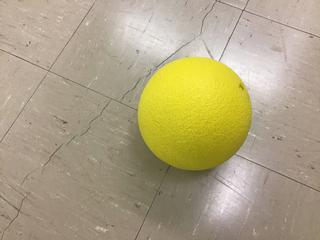power_cell: (134, 50, 255, 181)
